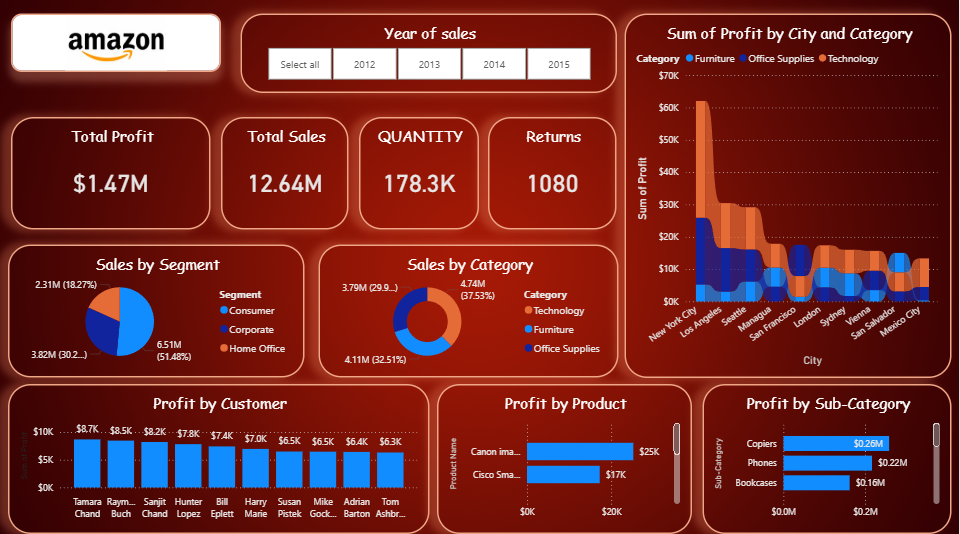

The dashboard page shown, as its layout file describes it:
{"tool":"powerbi","page":{"name":"Page 1","canvas":[1280,720],"ordinal":0},"visuals":[{"type":"image","box":[16,18,280,78],"z":0},{"type":"slicer","title":"Year of sales","fields":{"Values":["Orders.Order Date.Variation.Date Hierarchy.Year"]},"box":[322,18,502,106],"z":1000},{"type":"advanceCardE03760C5AB684758B56AA29F9E6C257B","title":"Total Profit","fields":{"mainMeasure":["Sum(Orders.Profit)"]},"box":[16,156,266,150],"z":2000},{"type":"advanceCardE03760C5AB684758B56AA29F9E6C257B","title":"Total Sales","fields":{"mainMeasure":["Sum(Orders.Sales)"]},"box":[296,156,170,150],"z":3000},{"type":"advanceCardE03760C5AB684758B56AA29F9E6C257B","title":"QUANTITY","fields":{"mainMeasure":["Sum(Orders.Quantity)"]},"box":[480,156.2,160,150],"z":4000},{"type":"advanceCardE03760C5AB684758B56AA29F9E6C257B","title":"Returns","fields":{"mainMeasure":["CountNonNull(Returns.Column1)"]},"box":[652.5,156.2,171.2,150],"z":5000},{"type":"pieChart","title":"Sales by Segment","fields":{"Category":["Orders.Segment"],"Y":["Sum(Orders.Sales)"]},"box":[12.5,325,395,177.5],"z":6000},{"type":"donutChart","title":"Sales by Category","fields":{"Category":["Orders.Category"],"Y":["Sum(Orders.Sales)"]},"box":[425,325,400,177.5],"z":7000},{"type":"columnChart","title":"Profit by Customer ","fields":{"Category":["Orders.Customer Name"],"Y":["Sum(Orders.Profit)"]},"box":[12,512,562,200],"z":8000},{"type":"barChart","title":"Profit by Product ","fields":{"Category":["Orders.Product Name"],"Y":["Sum(Orders.Profit)"]},"box":[584,512,340,200],"z":9000},{"type":"barChart","title":"Profit by Sub-Category","fields":{"Y":["Sum(Orders.Profit)"],"Category":["Orders.Sub-Category"]},"box":[938,512,332,200],"z":10000},{"type":"ribbonChart","fields":{"Category":["Orders.City"],"Y":["Sum(Orders.Profit)"],"Series":["Orders.Category"]},"box":[834,18,436,486],"z":10001}]}

Visuals, with their boxes in screenshot pixels (x1, y1, x2, y2), scaled from the page's 1280x720 canvas onto the 960x534 screenshot:
image: bbox=[12, 13, 222, 71]
"Year of sales" slicer: bbox=[242, 13, 618, 92]
"Total Profit" advanceCardE03760C5AB684758B56AA29F9E6C257B: bbox=[12, 116, 212, 227]
"Total Sales" advanceCardE03760C5AB684758B56AA29F9E6C257B: bbox=[222, 116, 350, 227]
"QUANTITY" advanceCardE03760C5AB684758B56AA29F9E6C257B: bbox=[360, 116, 480, 227]
"Returns" advanceCardE03760C5AB684758B56AA29F9E6C257B: bbox=[489, 116, 618, 227]
"Sales by Segment" pieChart: bbox=[9, 241, 306, 373]
"Sales by Category" donutChart: bbox=[319, 241, 619, 373]
"Profit by Customer " columnChart: bbox=[9, 380, 430, 528]
"Profit by Product " barChart: bbox=[438, 380, 693, 528]
"Profit by Sub-Category" barChart: bbox=[704, 380, 952, 528]
ribbonChart - Orders.City x Sum(Orders.Profit): bbox=[626, 13, 952, 374]
